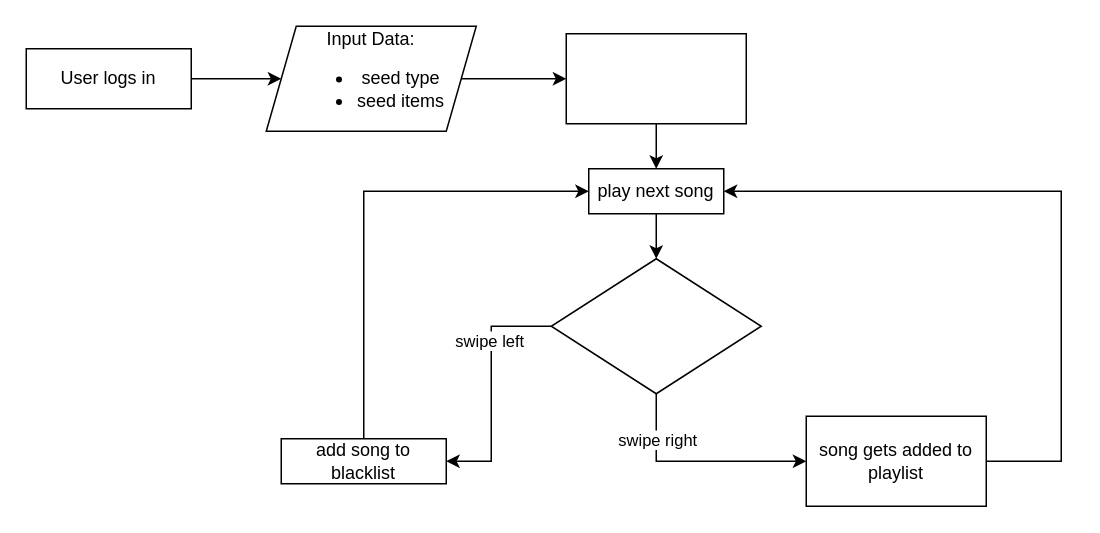
The diagram is 1100 pixels wide and 533 high, and some of its shapes have lost their labels. Here are the shapes that lost their labels. From the top down, the centre of each, then its label:
At (x=655, y=78): "generate recommendations".
At (x=655, y=325): "User rates song".
